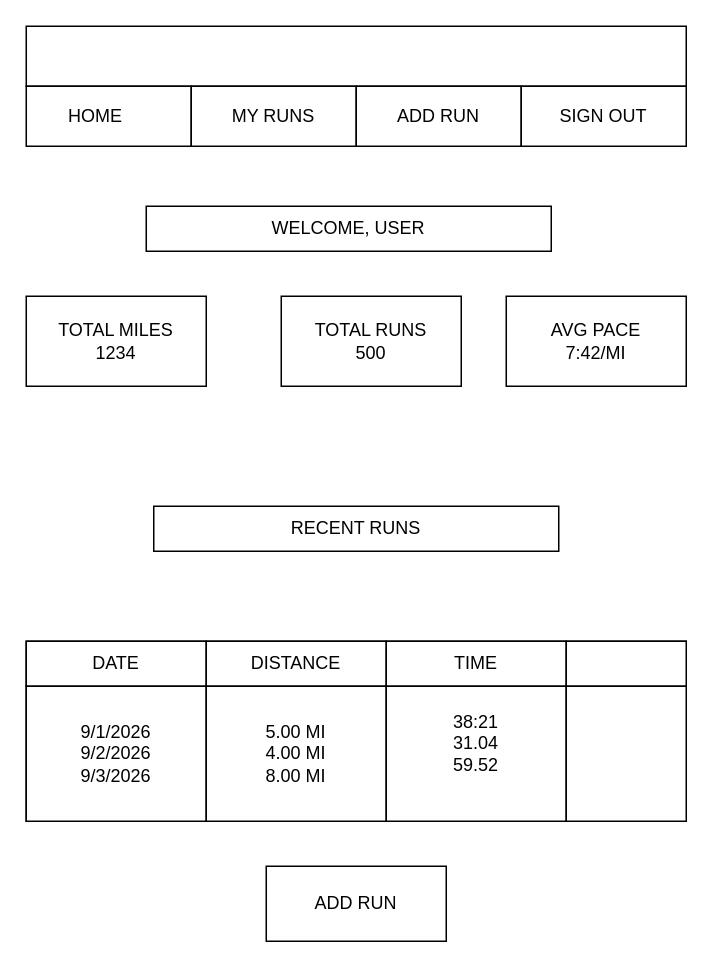
The diagram is 713 pixels wide and 968 high, and some of its shapes have lost their labels. The centre of each missing label's shape, as x and y in pixels:
"7:40/MI 7:46/MI 7:29/MI" belongs at [625,753].
"PACE" belongs at [625,663].
"RUNNING TRACKER" belongs at [355,55].
